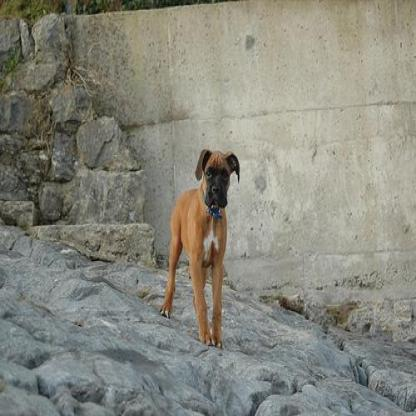boxer: (157, 145, 242, 351)
